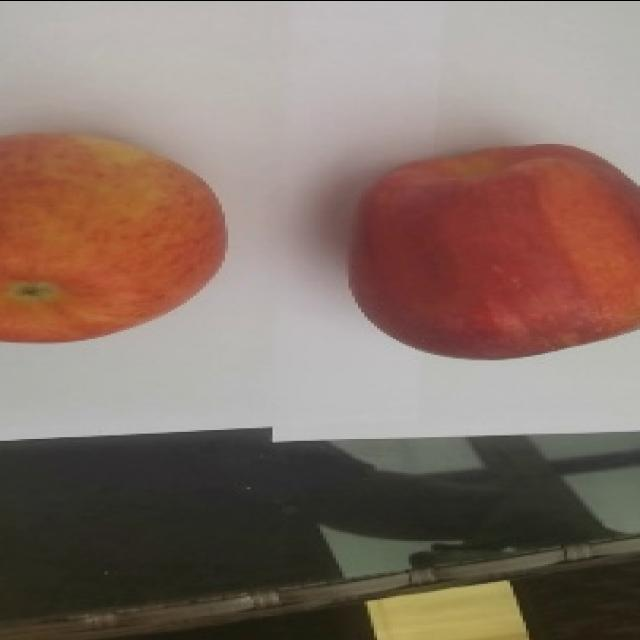Apple: (346, 142, 639, 360), (0, 130, 227, 343)
